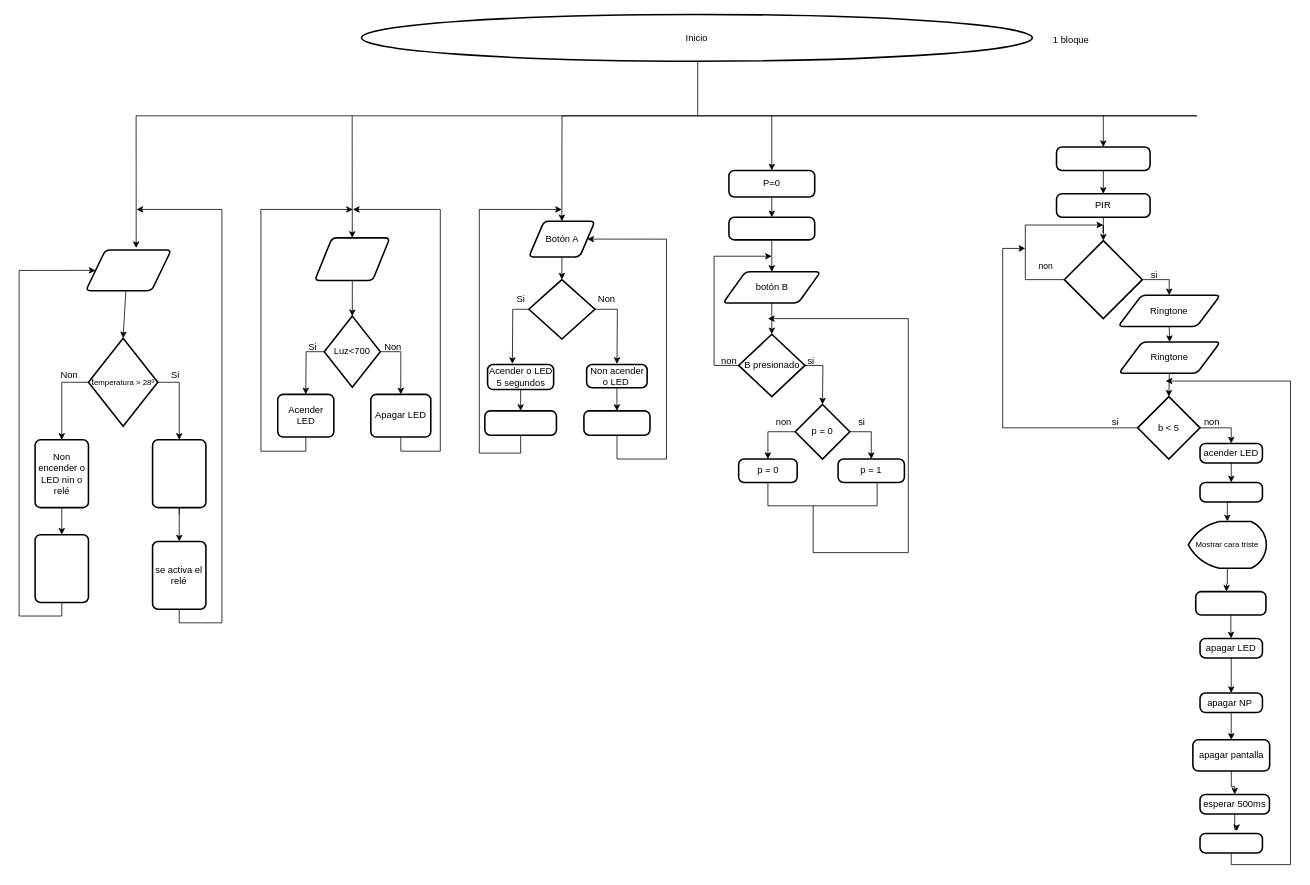
Some shapes in this 1310 by 885 pixel diagram are drawn without their labels. The shapes that lost their labels are listed below. From the top down, each one's centre as x and y in pixels, then its label:
(1102,158): b = 0
(771,228): servo 0º
(128,270): Temperatura
(352,259): Sensor de luz
(1103,279): PIR= 1
(561,308): Si se pulsa botón A
(520,423): Emite o son da microbit ringtone
(616,423): Non emitir ningún sonido
(178,473): O LED vermello se acende
(1231,491): NP vermello
(61,568): No encender o relé
(1230,602): esperar 500 ms
(1231,842): C = C + 1
